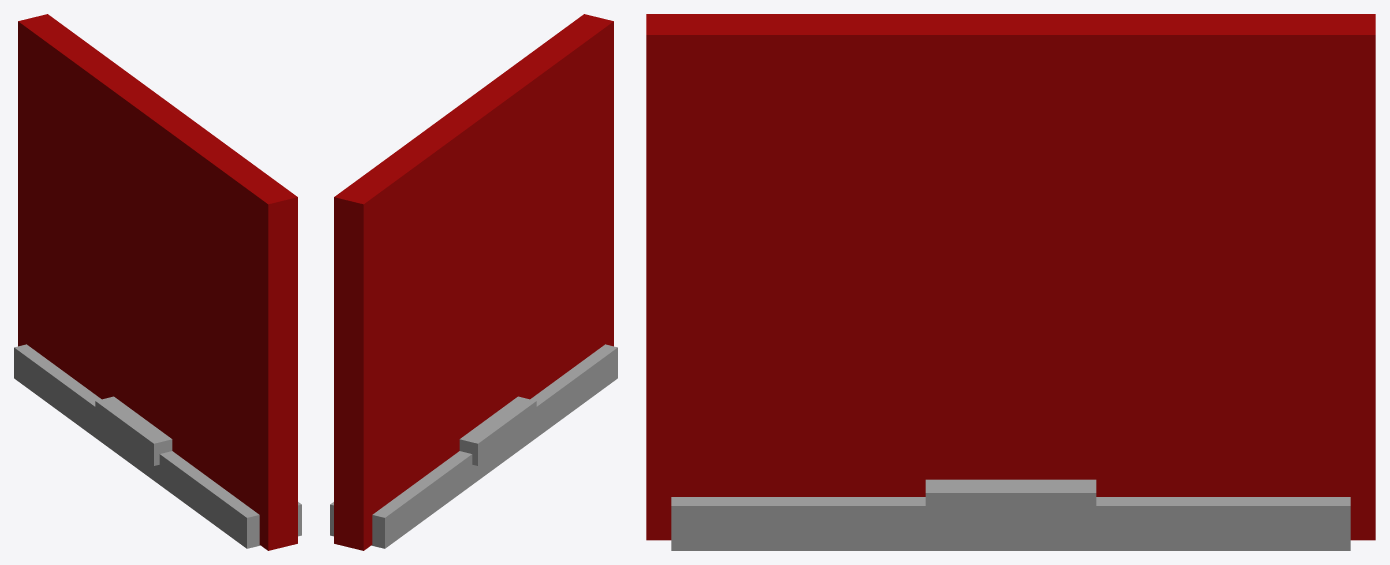
File: windowAnimated.fbx
The picture shows the model from 3 angles, left to right: view 1: azimuth 30°, elevation 25°; view 2: azimuth 150°, elevation 25°; view 3: azimuth 270°, elevation 25°; orthographic projection. The views are drawn at different scales.
Parts seen in each view (by area): view 1: polySurface22; view 2: polySurface22; view 3: polySurface22.
Part boxes in pixels (<box>): polySurface22: <box>14,14,301,550</box>; polySurface22: <box>330,14,617,550</box>; polySurface22: <box>646,14,1375,550</box>.
Bounding box in the file's own units: 0.6578 × 3.28 × 4.28.
